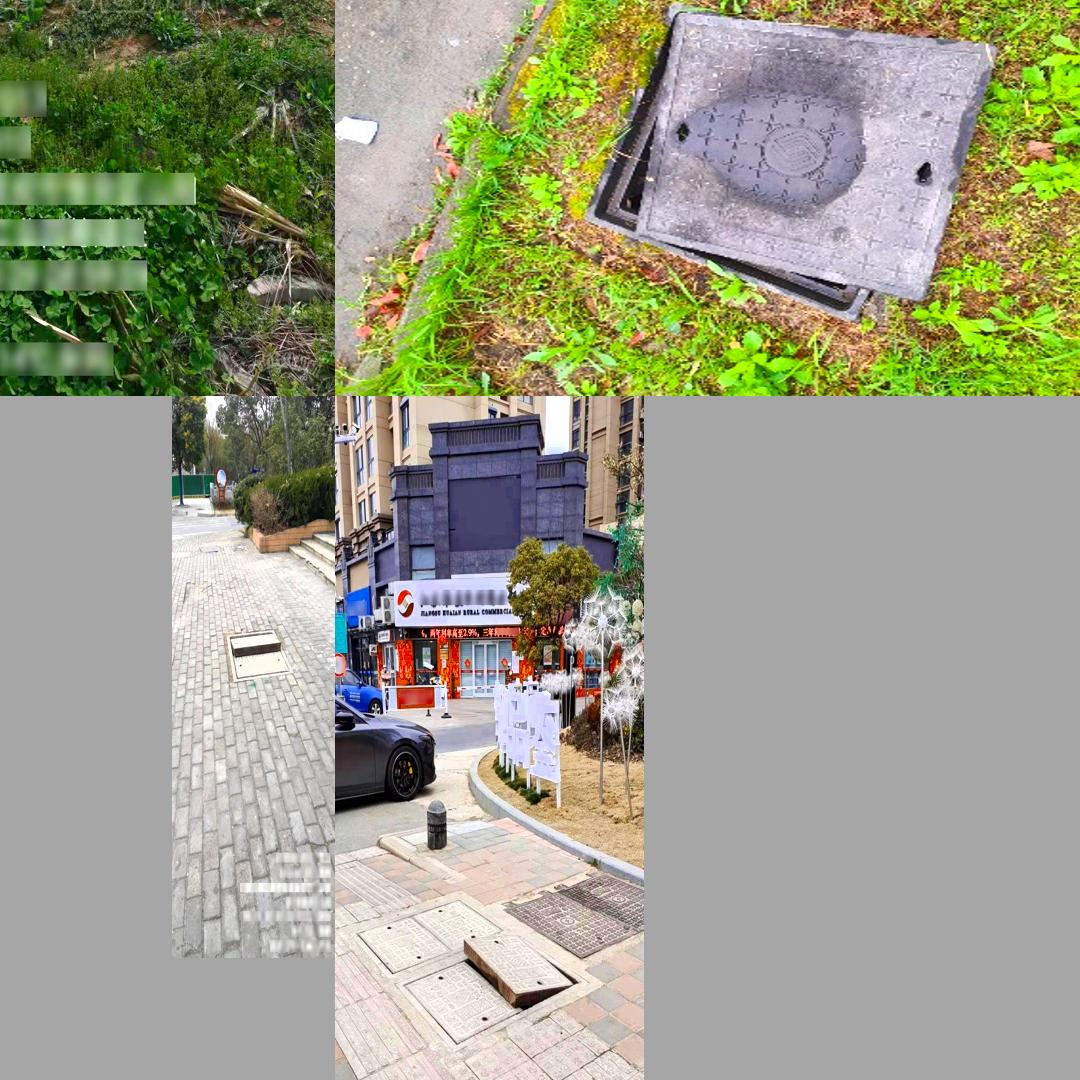good: (501, 869, 644, 968), (354, 896, 501, 980)
uncovered: (581, 5, 997, 322), (396, 928, 587, 1047), (227, 627, 294, 682)
